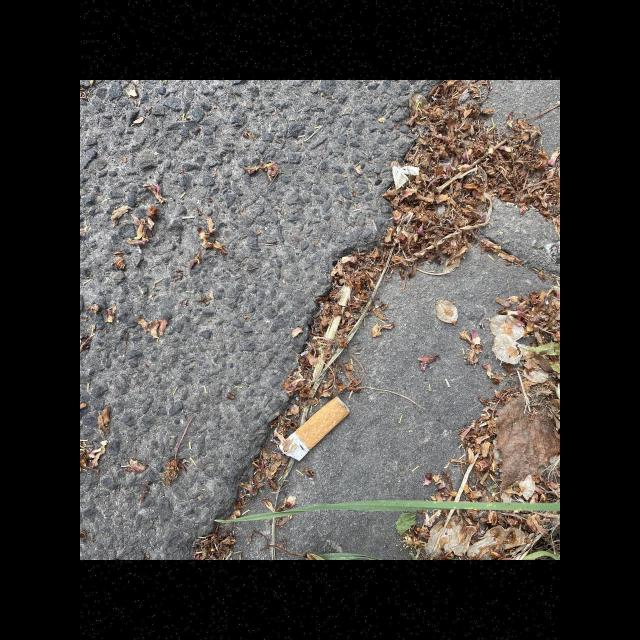cigarette: (279, 396, 350, 462)
